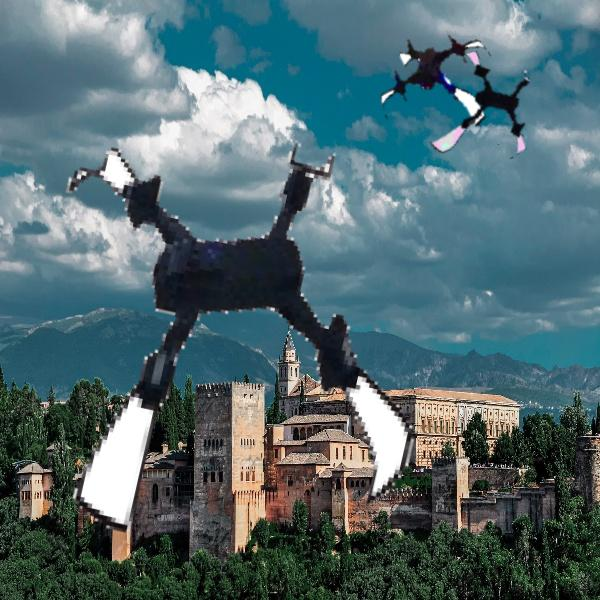drone: (23, 128, 460, 565), (417, 45, 548, 176), (374, 25, 503, 154)
